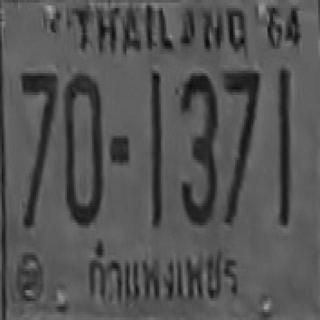N00: (63, 71, 101, 222)
N01: (276, 68, 290, 220), (149, 68, 162, 220), (277, 66, 289, 208)
N03: (179, 71, 217, 222)
N07: (222, 68, 259, 220), (21, 71, 57, 222), (21, 70, 57, 174), (222, 68, 259, 165), (21, 70, 57, 163)
P16: (80, 236, 241, 310)
